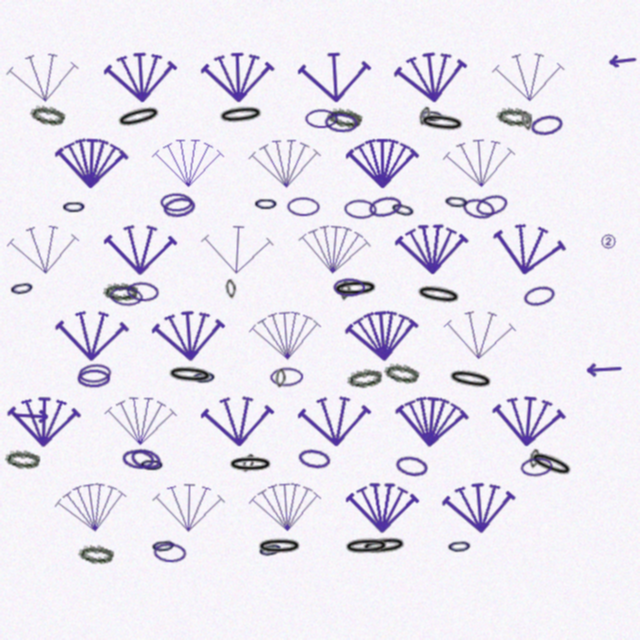chain: (526, 447, 576, 482), (114, 102, 164, 132), (446, 366, 495, 393), (414, 282, 463, 308), (217, 103, 265, 127), (418, 111, 466, 135), (360, 534, 408, 558), (166, 364, 214, 386), (332, 278, 379, 299), (343, 536, 390, 557), (474, 192, 509, 218), (522, 283, 557, 309), (367, 194, 403, 219), (227, 455, 274, 474), (256, 537, 303, 556), (29, 103, 66, 127), (346, 366, 383, 390), (383, 361, 420, 385), (129, 446, 163, 472), (461, 196, 496, 221), (326, 106, 363, 129), (529, 113, 564, 137), (394, 454, 429, 478), (162, 195, 196, 219), (297, 447, 331, 471), (496, 106, 532, 127), (388, 197, 418, 222), (121, 448, 155, 470), (520, 456, 553, 478), (78, 544, 114, 564), (324, 112, 358, 133), (109, 286, 143, 307), (78, 363, 112, 384), (153, 542, 187, 563), (5, 449, 40, 469), (126, 281, 159, 302), (256, 538, 285, 561), (103, 282, 138, 301), (344, 199, 377, 219), (270, 367, 303, 387), (305, 109, 338, 128), (160, 193, 193, 212), (287, 197, 320, 216), (77, 369, 110, 388), (8, 277, 36, 299), (333, 278, 365, 297), (418, 105, 445, 126), (443, 191, 470, 212), (150, 535, 177, 556), (446, 536, 473, 556), (191, 367, 217, 387), (61, 197, 87, 216), (253, 194, 279, 213), (139, 455, 165, 474), (240, 453, 256, 474), (417, 106, 432, 127), (520, 111, 534, 131), (528, 449, 541, 469), (225, 279, 237, 299), (339, 281, 351, 301), (275, 369, 286, 388)
fan: (488, 216, 569, 282), (52, 475, 132, 539), (392, 45, 471, 108), (490, 390, 567, 451), (5, 47, 82, 107), (296, 219, 373, 279), (344, 305, 421, 365), (393, 391, 470, 451), (441, 477, 518, 537), (6, 219, 82, 279), (151, 305, 227, 365), (248, 305, 324, 365), (103, 47, 179, 106), (297, 47, 373, 106), (442, 133, 518, 192), (442, 305, 518, 364), (200, 391, 276, 450), (297, 391, 373, 450), (248, 477, 324, 536), (248, 134, 323, 192), (200, 220, 275, 278), (54, 134, 129, 191), (201, 48, 275, 105), (492, 48, 566, 105), (395, 220, 469, 277), (104, 392, 178, 449), (55, 307, 129, 363), (7, 393, 81, 449), (152, 479, 226, 535), (104, 221, 177, 277), (346, 479, 419, 535), (152, 135, 225, 190), (346, 135, 419, 190)
noise: (584, 361, 622, 378), (13, 408, 50, 423), (606, 53, 637, 68), (599, 232, 617, 250)
